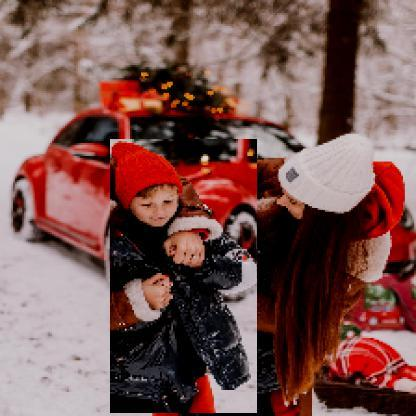child: (111, 140, 259, 415)
